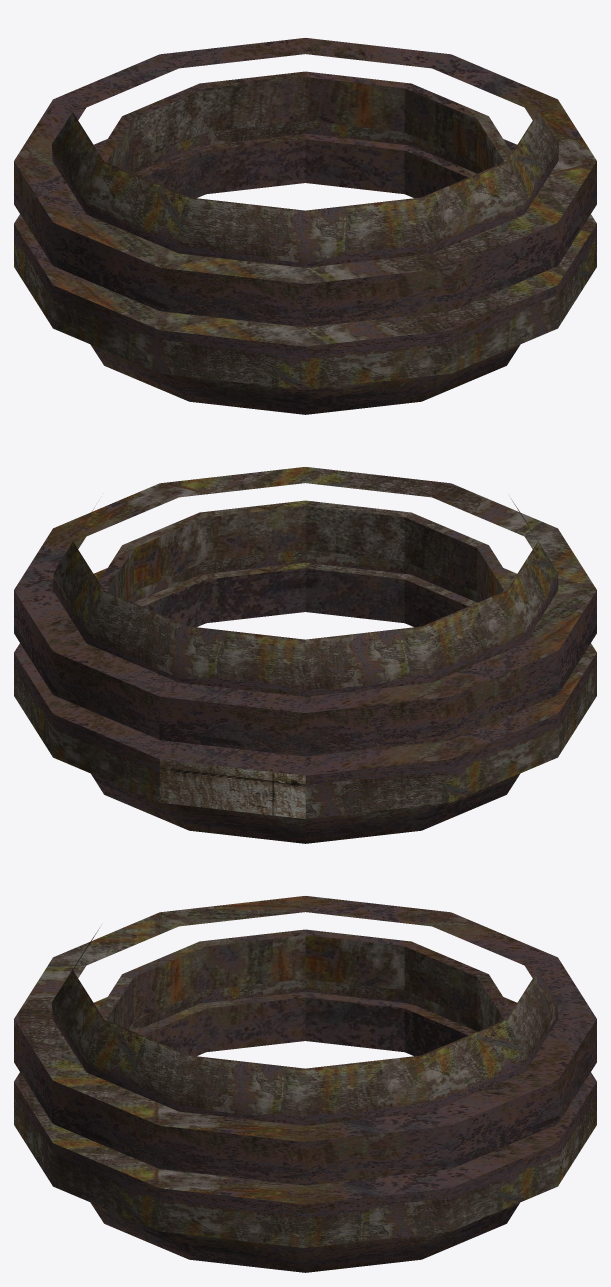
The model's file is railpipe_connector.glb.
3 renders of one model, top to bottom at view 1: azimuth 30°, elevation 25°; view 2: azimuth 150°, elevation 25°; view 3: azimuth 270°, elevation 25°, orthographic.
Size of the model in its own units: 90.21 by 34.88 by 90.21.
Materials: 2 (2 with a texture image).
